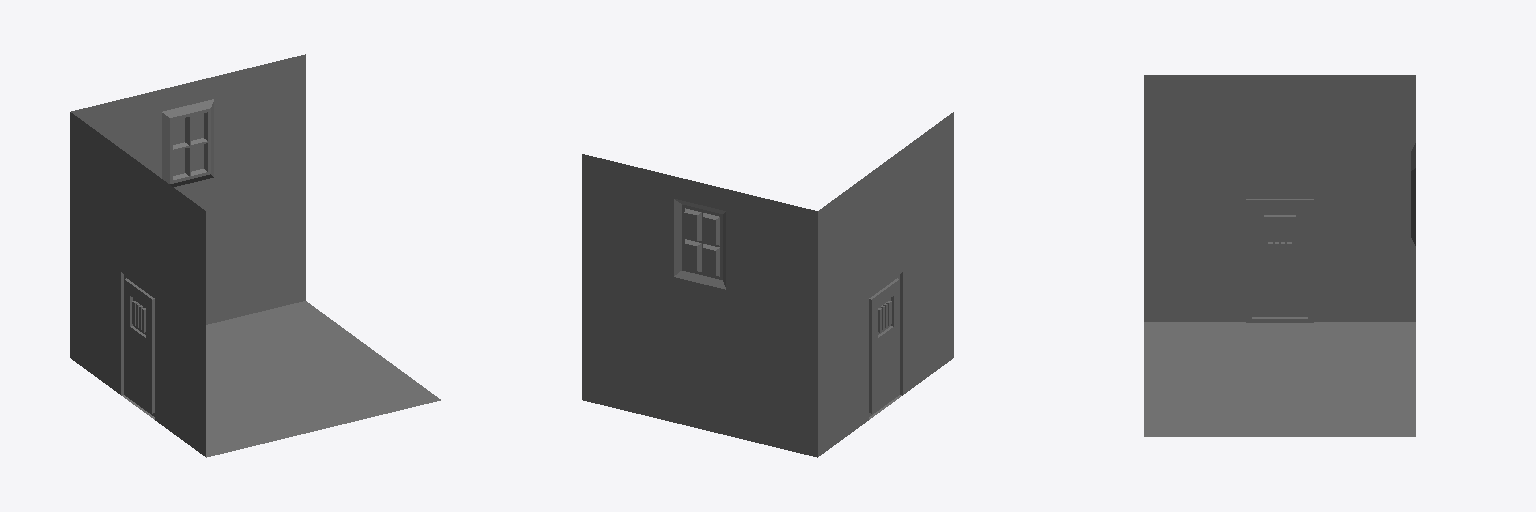
The model's file is stanzaletto.obj.
3 views of the same model, side by side, from view 1: azimuth 30°, elevation 25°; view 2: azimuth 150°, elevation 25°; view 3: azimuth 270°, elevation 25° (orthographic).
Parts seen in each view (by area): view 1: polySurface3 polySurface4 polySurface5 polySurface1; view 2: polySurface3 polySurface4 polySurface5 polySurface1; view 3: polySurface3 polySurface4 polySurface5 polySurface1.
Boxes of the visible parts, x1,y1,x2,y2 form: polySurface3 polySurface4 polySurface5 polySurface1: [70, 54, 440, 457]; polySurface3 polySurface4 polySurface5 polySurface1: [582, 112, 953, 457]; polySurface3 polySurface4 polySurface5 polySurface1: [1144, 75, 1415, 436].
Size of the model in its own units: 23.73 by 23.73 by 23.73.